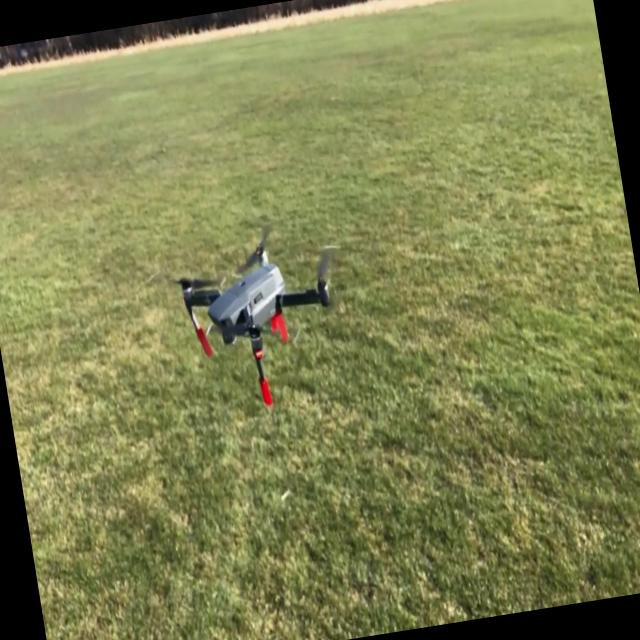drone: (163, 224, 354, 428)
